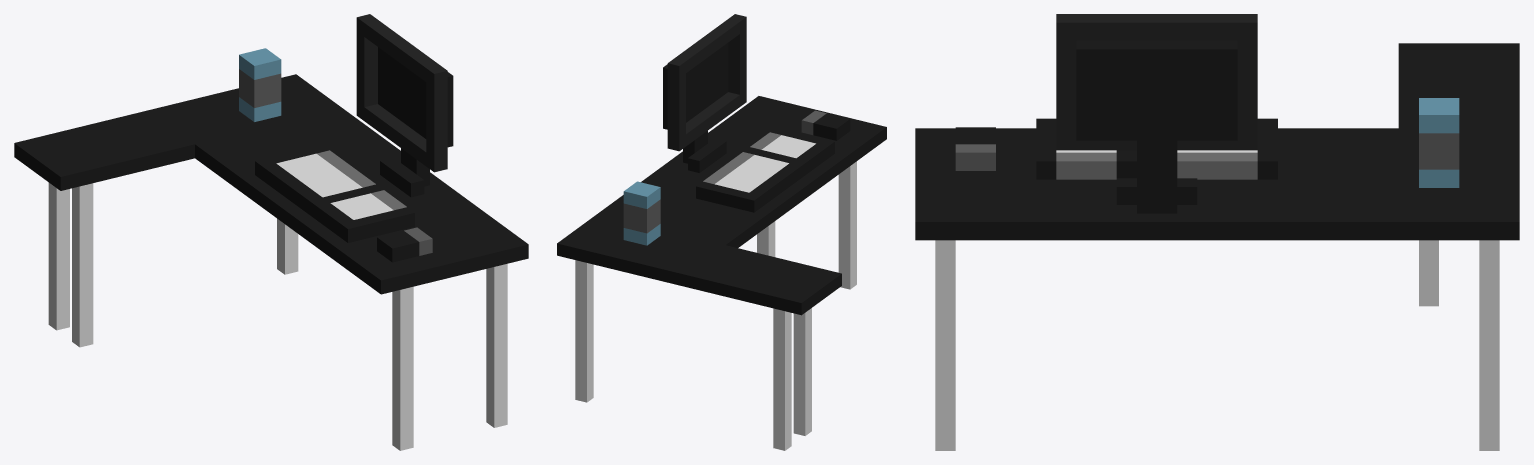
File: BedroomandMainRoom-12.obj
3 views of the same model, side by side, from view 1: azimuth 30°, elevation 25°; view 2: azimuth 150°, elevation 25°; view 3: azimuth 270°, elevation 25° (orthographic). The views are drawn at different scales.
Size of the model in its own units: 2.1 by 2.3 by 3.
Materials: 1 (1 with a texture image).
